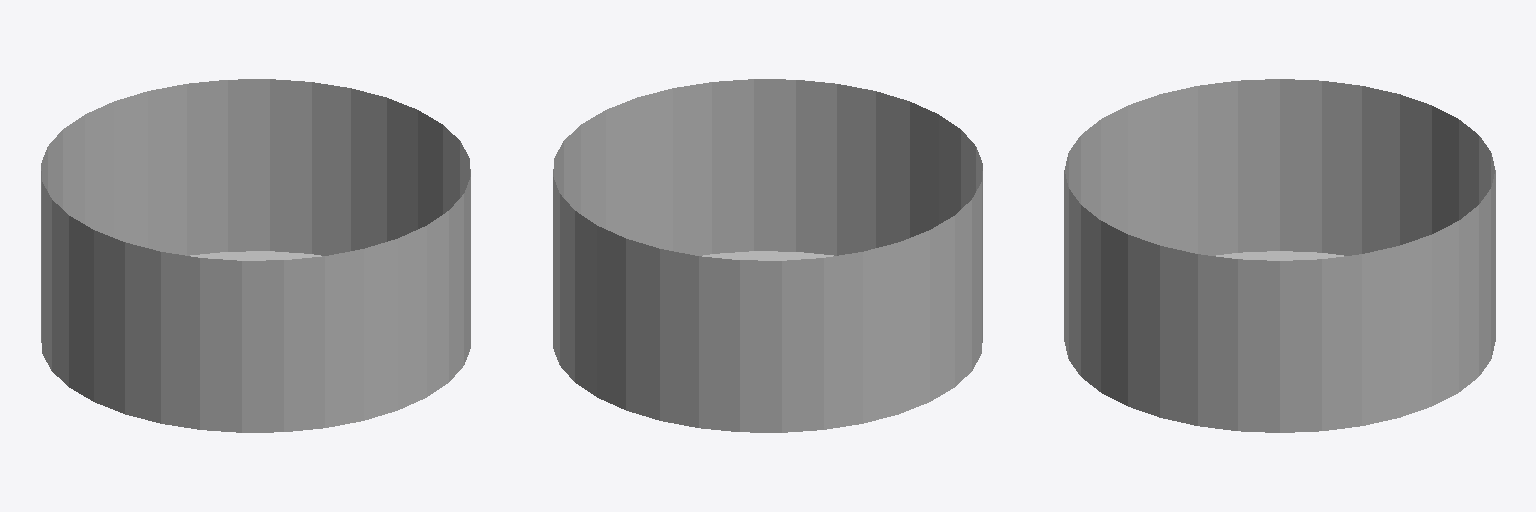
Rendered from Underground_old.obj.
3 views of the same model, side by side, from view 1: azimuth 30°, elevation 25°; view 2: azimuth 150°, elevation 25°; view 3: azimuth 270°, elevation 25° (orthographic).
Visible parts, largest first — view 1: Circle.001; view 2: Circle.001; view 3: Circle.001.
Boxes of the visible parts, x1,y1,x2,y2 form: Circle.001: [41, 79, 470, 432]; Circle.001: [553, 79, 982, 432]; Circle.001: [1064, 79, 1495, 432].
Size of the model in its own units: 8 by 3.52 by 8.